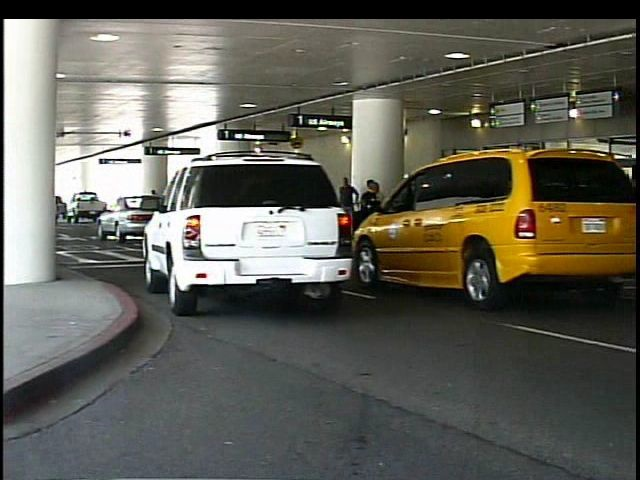person: (516, 164, 545, 261), (360, 178, 388, 260), (333, 172, 359, 241)
